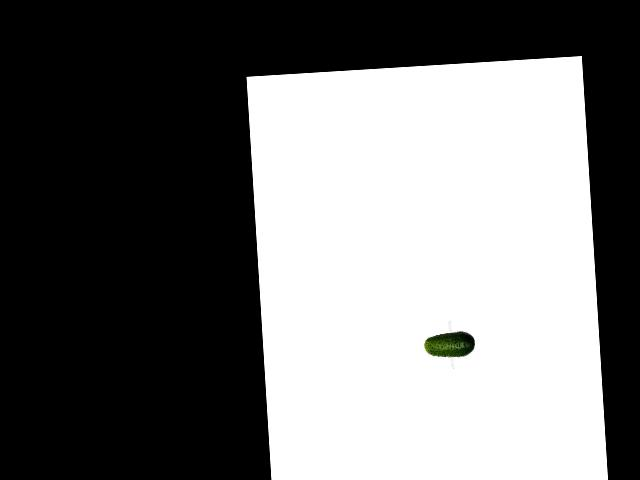cucumber: (423, 330, 475, 359)
